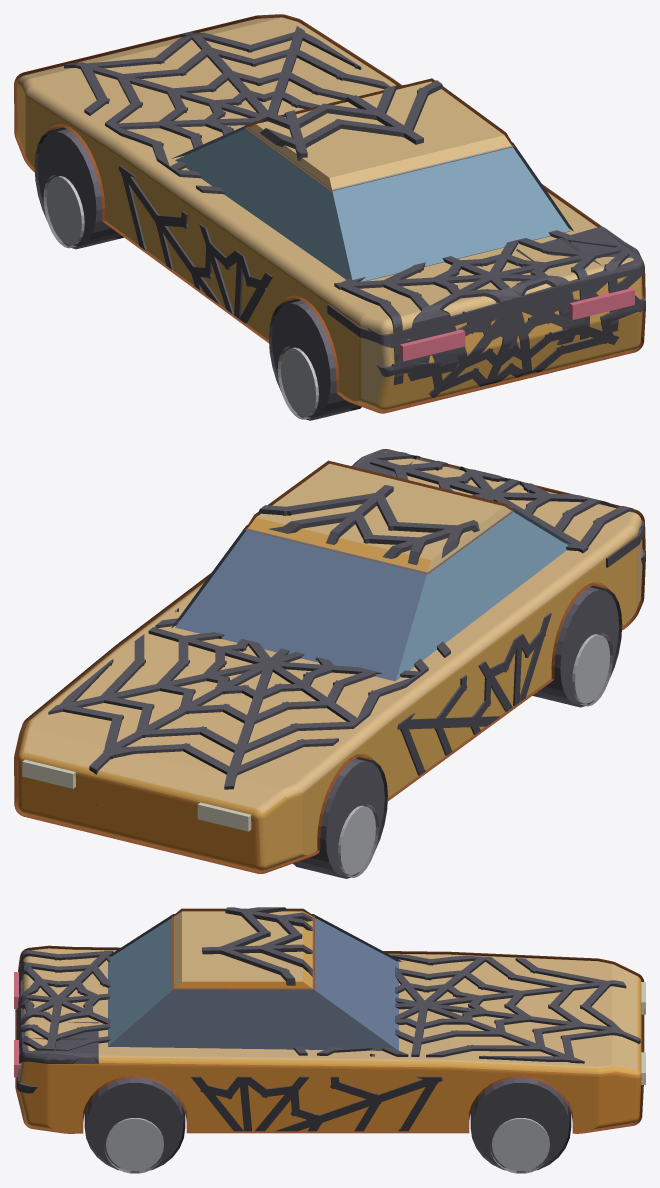
Rendered from car_brute.glb.
3 renders of one model, top to bottom at view 1: azimuth 30°, elevation 25°; view 2: azimuth 150°, elevation 25°; view 3: azimuth 270°, elevation 25°, orthographic. The views are drawn at different scales.
Parts seen in each view (by area): view 1: car; view 2: car; view 3: car.
Part boxes in pixels (x1,y1,x2,y2): car: (14,14,645,420); car: (14,449,645,878); car: (14,907,645,1173).
Bounding box in the file's own units: 2.11 × 1.4 × 4.7.
